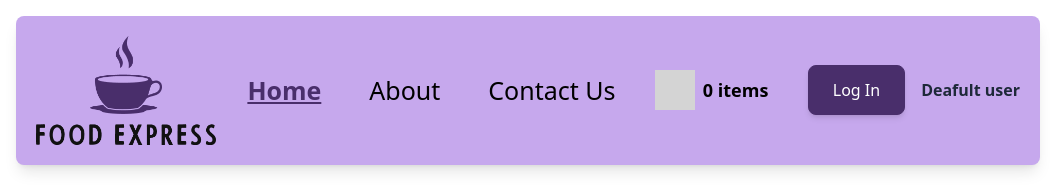
Test: should change login button to logout button on click
Click the button "Log In" at (856, 90), box [808,65,905,115]
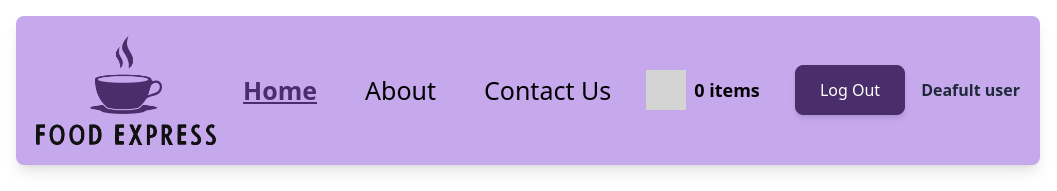
Expected: the button "Log Out" is shown, [795,65,905,115]
